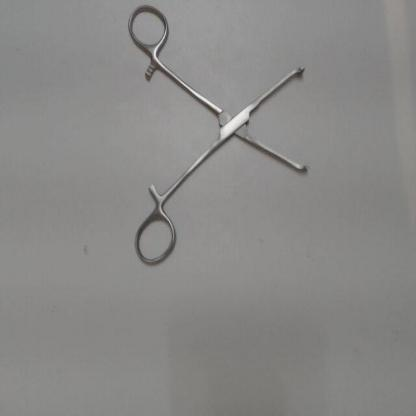Allis Tissue Forceps: (125, 1, 314, 269)
